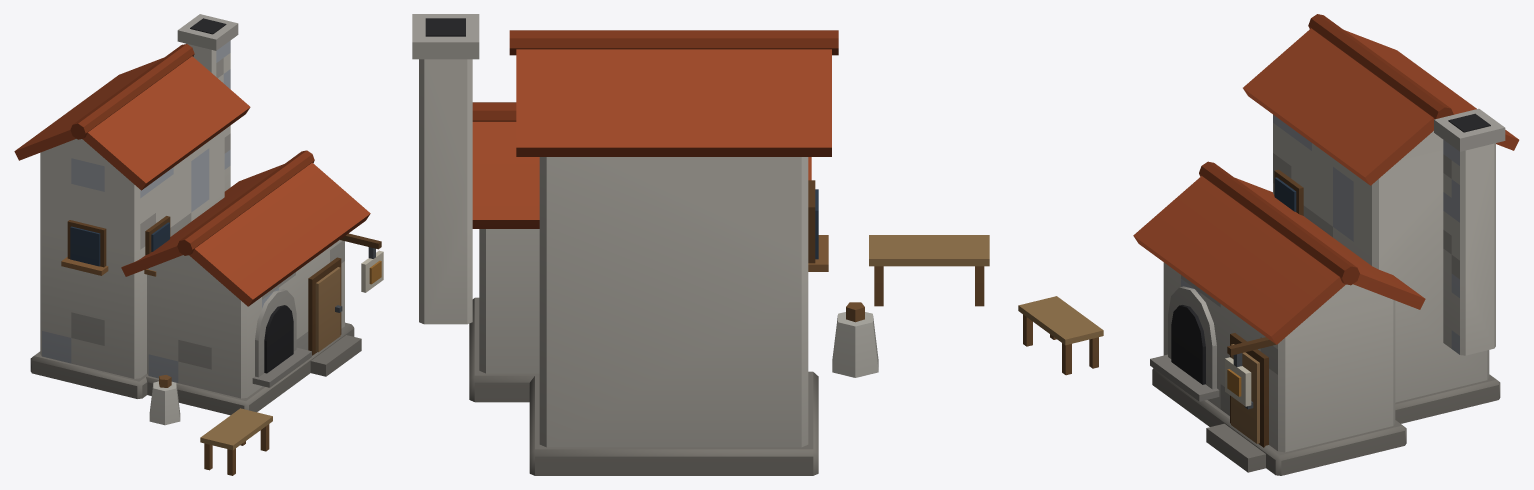
The model's file is building_10.glb.
3 views of the same model, side by side, from view 1: azimuth 30°, elevation 25°; view 2: azimuth 150°, elevation 25°; view 3: azimuth 270°, elevation 25° (orthographic). The views are drawn at different scales.
Parts seen in each view (by area): view 1: building_10; view 2: building_10; view 3: building_10.
Boxes of the visible parts, x1=… form: building_10: x1=14, y1=14, x2=383, y2=475; building_10: x1=412, y1=14, x2=989, y2=475; building_10: x1=1018, y1=14, x2=1519, y2=475.
Size of the model in its own units: 0.7912 by 0.67 by 0.9619.
